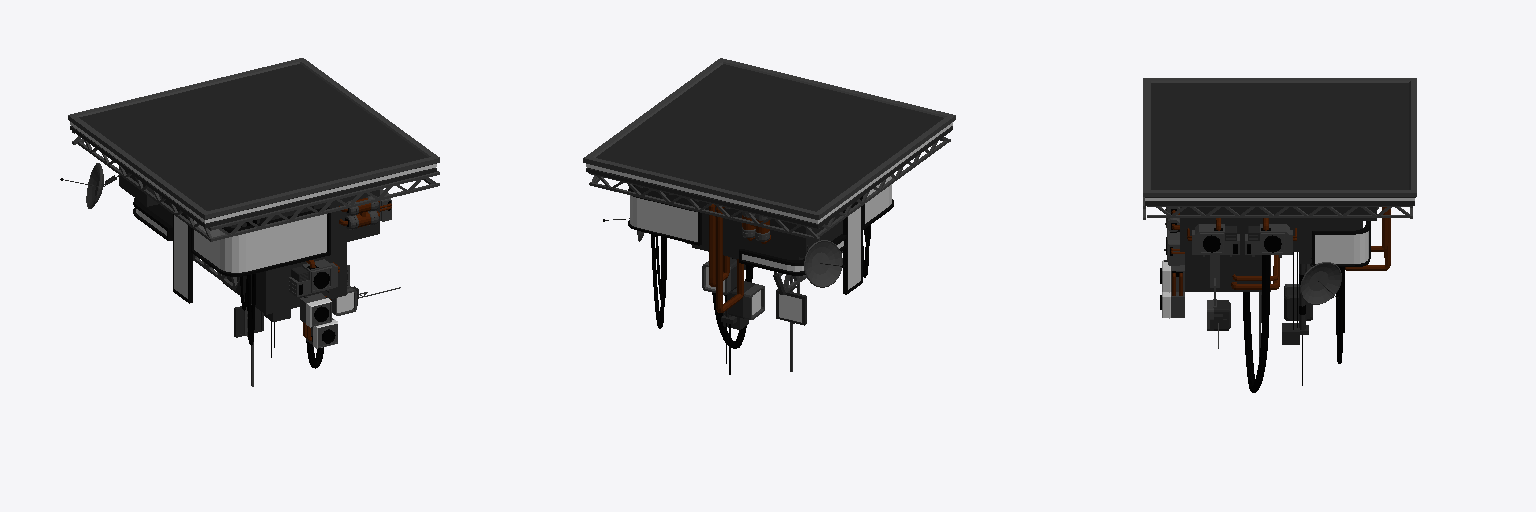
The model's file is Platform_4x4.obj.
3 views of the same model, side by side, from view 1: azimuth 30°, elevation 25°; view 2: azimuth 150°, elevation 25°; view 3: azimuth 270°, elevation 25° (orthographic).
Visible parts, largest first — view 1: Platform_4x4; view 2: Platform_4x4; view 3: Platform_4x4.
Boxes of the visible parts, <box> form: Platform_4x4: <box>60,58,439,386</box>; Platform_4x4: <box>583,58,955,374</box>; Platform_4x4: <box>1143,78,1416,392</box>.
Size of the model in its own units: 4.47 by 3.76 by 3.9.